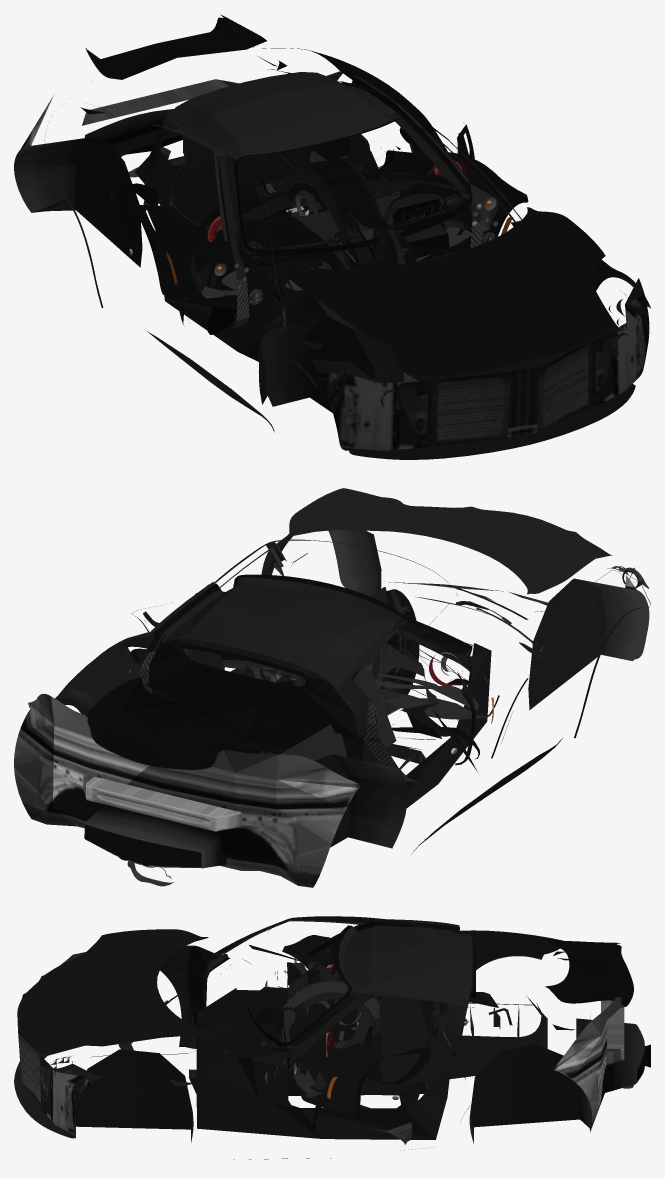
3 views of the same model, one above another, from view 1: azimuth 30°, elevation 25°; view 2: azimuth 150°, elevation 25°; view 3: azimuth 270°, elevation 25° (orthographic). The views are drawn at different scales.
Visible parts, largest first — view 1: LOD_A_CHASSIS_mm_chassis, LOD_A_INTERIOR_mm_cab, LOD_A_FRONTBUMPER_mm_ext, LOD_A_CHASSIS_mm_misc, LOD_A_BODY_mm_ext, LOD_A_REARBUMPER_mm_ext, LOD_A_REARBUMPER_mm_misc, LOD_A_DOOR_LEFT_mm_ext, LOD_A_BRAKE_CALIPER_FRONT_LEFT_mm_misc001, LOD_A_BRAKE_CALIPER_FRONT_LEFT_mm_misc002, LOD_A_BODY_mm_misc, LOD_A_BODY_mm_lights (+2 smaller); view 2: LOD_A_CHASSIS_mm_chassis, LOD_A_INTERIOR_mm_cab, LOD_A_BODY_mm_ext, LOD_A_CHASSIS_mm_misc, LOD_A_REARBUMPER_mm_misc, LOD_A_DOOR_RIGHT_mm_ext, LOD_A_BODY_mm_misc, LOD_A_FRONTBUMPER_mm_chassis, LOD_A_FRONTBUMPER_mm_ext, LOD_A_DOOR_LEFT_mm_ext; view 3: LOD_A_CHASSIS_mm_chassis, LOD_A_INTERIOR_mm_cab, LOD_A_CHASSIS_mm_misc, LOD_A_BODY_mm_ext, LOD_A_FRONTBUMPER_mm_ext, LOD_A_DOOR_LEFT_mm_ext, LOD_A_BRAKE_CALIPER_FRONT_LEFT_mm_misc002, LOD_A_REARBUMPER_mm_misc, LOD_A_BODY_mm_misc, LOD_A_REARBUMPER_mm_ext, LOD_A_BRAKE_CALIPER_FRONT_LEFT_mm_misc001.
Boxes of the visible parts, x1,y1,x2,y2 form: LOD_A_CHASSIS_mm_chassis: [14, 14, 649, 459]; LOD_A_INTERIOR_mm_cab: [148, 72, 490, 382]; LOD_A_FRONTBUMPER_mm_ext: [131, 122, 474, 309]; LOD_A_CHASSIS_mm_misc: [108, 134, 393, 353]; LOD_A_BODY_mm_ext: [35, 47, 650, 432]; LOD_A_REARBUMPER_mm_ext: [178, 150, 528, 326]; LOD_A_REARBUMPER_mm_misc: [190, 170, 498, 298]; LOD_A_DOOR_LEFT_mm_ext: [264, 152, 416, 268]; LOD_A_BRAKE_CALIPER_FRONT_LEFT_mm_misc001: [280, 162, 374, 269]; LOD_A_BRAKE_CALIPER_FRONT_LEFT_mm_misc002: [287, 159, 382, 269]; LOD_A_BODY_mm_misc: [80, 60, 633, 409]; LOD_A_BODY_mm_lights: [129, 197, 498, 304]; LOD_A_CHASSIS_mm_chassis: [14, 488, 649, 887]; LOD_A_INTERIOR_mm_cab: [136, 574, 491, 807]; LOD_A_BODY_mm_ext: [55, 534, 650, 854]; LOD_A_CHASSIS_mm_misc: [266, 585, 543, 760]; LOD_A_REARBUMPER_mm_misc: [223, 663, 499, 719]; LOD_A_DOOR_RIGHT_mm_ext: [260, 589, 419, 694]; LOD_A_BODY_mm_misc: [127, 547, 649, 886]; LOD_A_FRONTBUMPER_mm_chassis: [144, 620, 462, 703]; LOD_A_FRONTBUMPER_mm_ext: [132, 602, 475, 765]; LOD_A_DOOR_LEFT_mm_ext: [268, 587, 404, 689]; LOD_A_CHASSIS_mm_chassis: [14, 929, 650, 1143]; LOD_A_INTERIOR_mm_cab: [189, 919, 475, 1139]; LOD_A_CHASSIS_mm_misc: [118, 991, 547, 1086]; LOD_A_BODY_mm_ext: [90, 916, 581, 1159]; LOD_A_FRONTBUMPER_mm_ext: [278, 961, 388, 1118]; LOD_A_DOOR_LEFT_mm_ext: [230, 986, 434, 1082]; LOD_A_BRAKE_CALIPER_FRONT_LEFT_mm_misc002: [282, 968, 380, 1035]; LOD_A_REARBUMPER_mm_misc: [294, 961, 370, 1098]; LOD_A_BODY_mm_misc: [32, 920, 633, 1150]; LOD_A_REARBUMPER_mm_ext: [282, 935, 379, 1111]; LOD_A_BRAKE_CALIPER_FRONT_LEFT_mm_misc001: [283, 967, 377, 1032].
Bounding box in the file's own units: 61248 × 35143 × 125393.
Materials: 10 (10 with a texture image).
